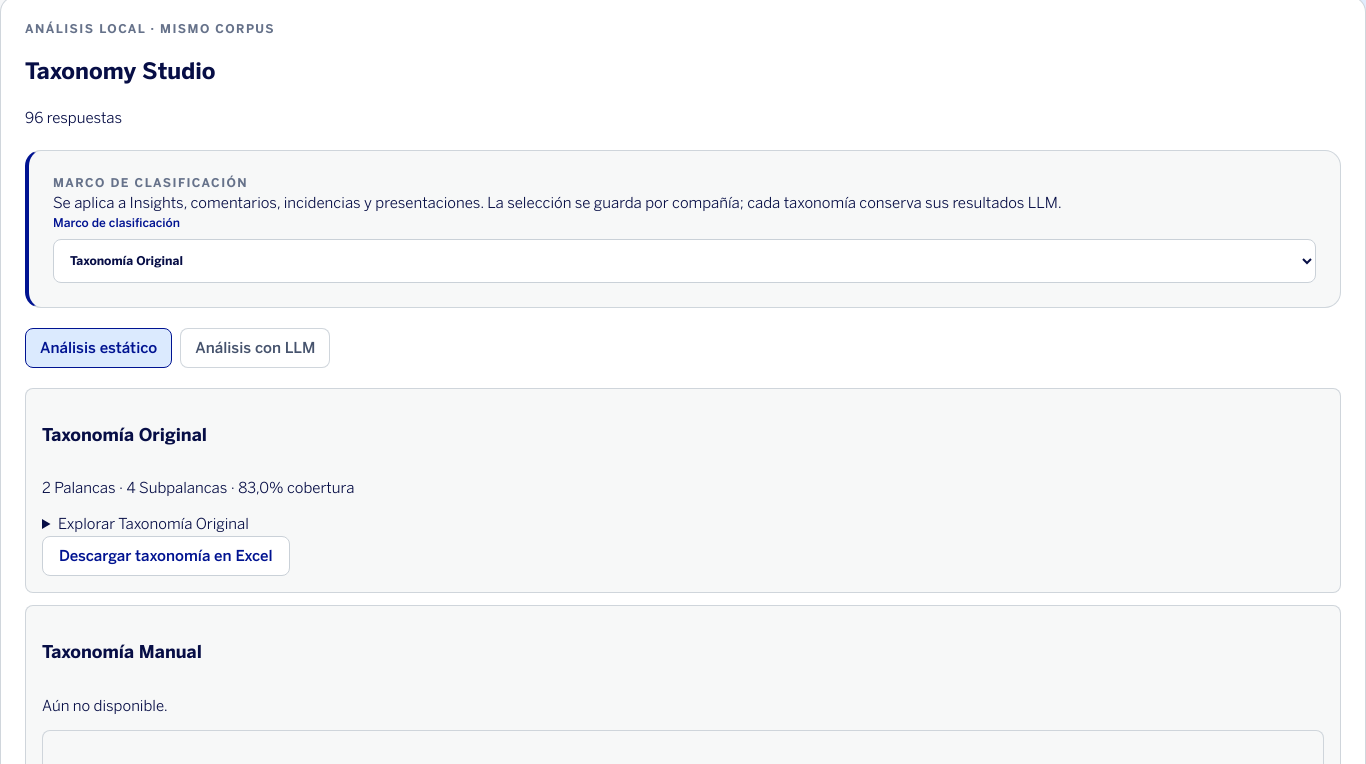
it: passes the changing analysis scope to classification while keeping designer on the dataset
The width and height of the screenshot is (1366, 764).
Click the tab "Análisis con LLM": coordinates (255, 348) 180,328 -> 330,368
(page scrolled)
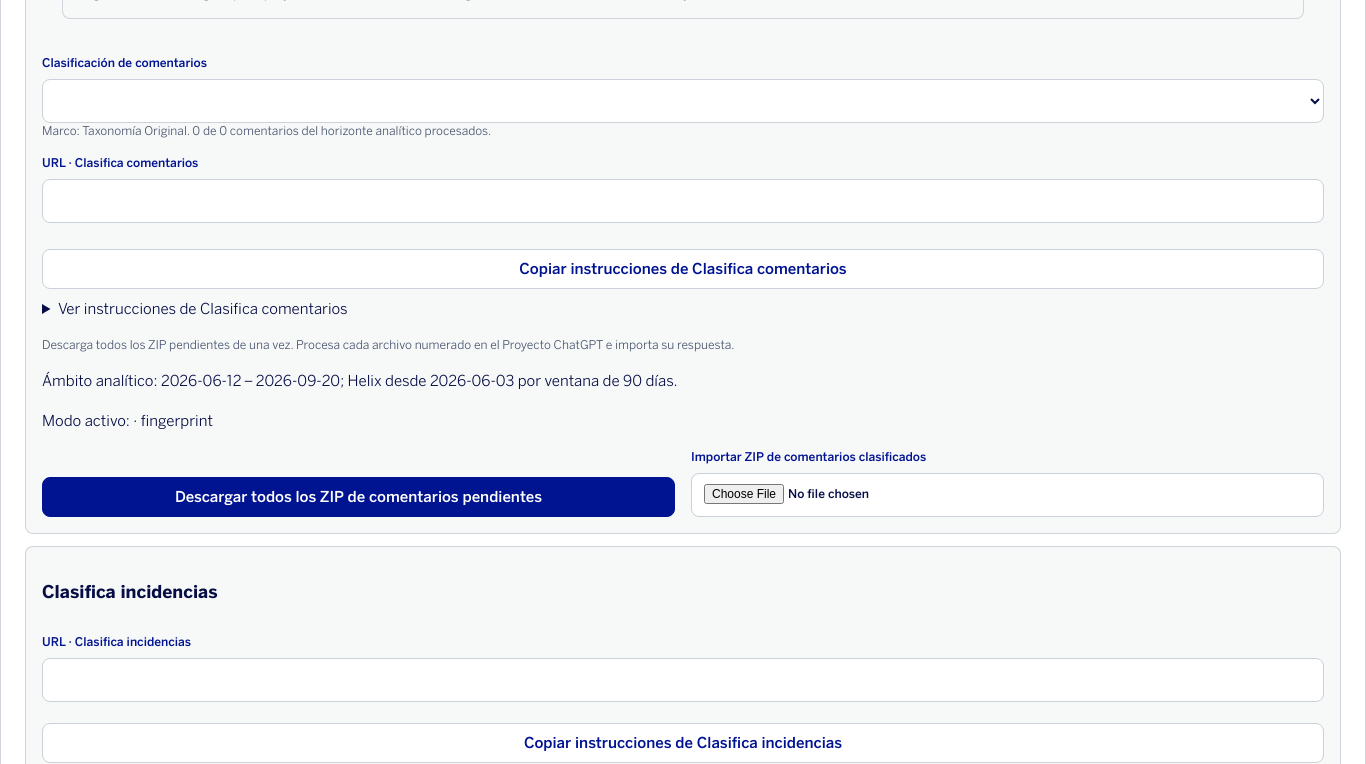
Expected: the text "Ámbito analítico: 2026-06-12" shows "Helix desde 2026-06-03 por ventana de 90 días", 42,372 -> 678,390
